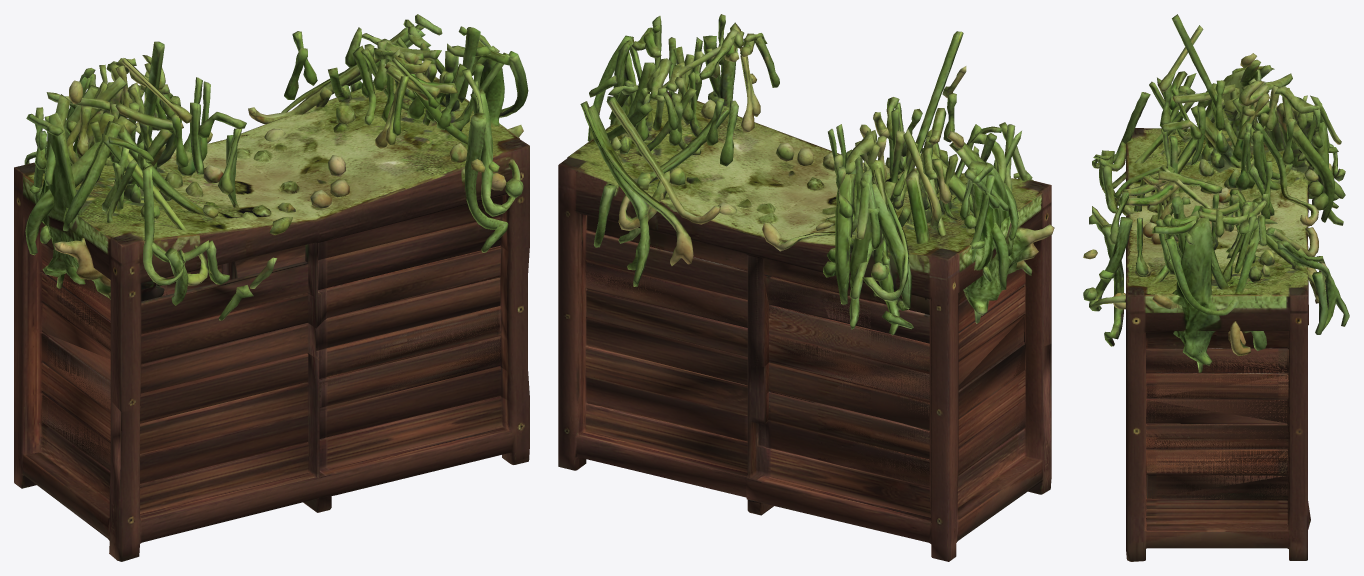
Rendered from Meshy_AI_Crate_of_Foliage_0519111807_texture.fbx.
3 views of the same model, side by side, from view 1: azimuth 30°, elevation 25°; view 2: azimuth 150°, elevation 25°; view 3: azimuth 270°, elevation 25° (orthographic). The views are drawn at different scales.
Parts seen in each view (by area): view 1: Mesh_0; view 2: Mesh_0; view 3: Mesh_0.
Boxes of the visible parts, x1,y1,x2,y2 form: Mesh_0: [14, 14, 529, 561]; Mesh_0: [558, 14, 1054, 561]; Mesh_0: [1083, 14, 1349, 561].
Size of the model in its own units: 181 by 177 by 105.
1 material, 1 textured.
